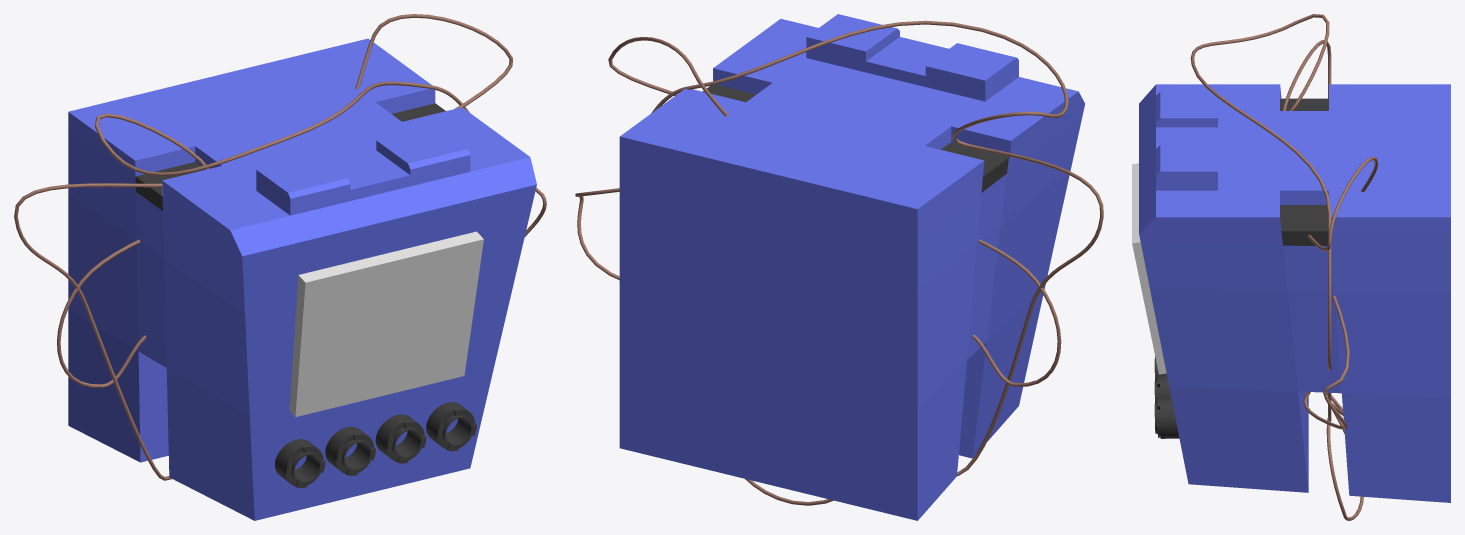
Rendered from Enemy2.fbx.
The picture shows the model from 3 angles, left to right: view 1: azimuth 30°, elevation 25°; view 2: azimuth 150°, elevation 25°; view 3: azimuth 270°, elevation 25°; orthographic projection. The views are drawn at different scales.
Parts seen in each view (by area): view 1: Cube, Cube.001, BezierCurve, Cylinder.002; view 2: Cube, BezierCurve; view 3: Cube, BezierCurve, Cube.001, Cylinder.002.
Boxes of the visible parts, x1=… form: Cube: x1=68, y1=38, x2=536, y2=520; Cube.001: x1=289, y1=231, x2=483, y2=416; BezierCurve: x1=14, y1=14, x2=546, y2=480; Cylinder.002: x1=275, y1=402, x2=476, y2=488; Cube: x1=619, y1=14, x2=1084, y2=520; BezierCurve: x1=575, y1=20, x2=1103, y2=505; Cube: x1=1139, y1=84, x2=1450, y2=502; BezierCurve: x1=1190, y1=14, x2=1378, y2=520; Cube.001: x1=1132, y1=163, x2=1166, y2=374; Cylinder.002: x1=1154, y1=356, x2=1179, y2=438.
Size of the model in its own units: 319 by 252 by 183.
